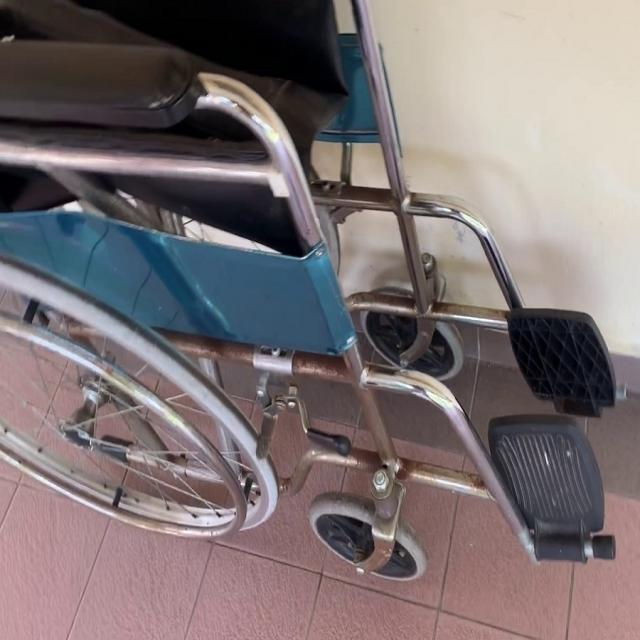wheelchair: (1, 4, 630, 593)
